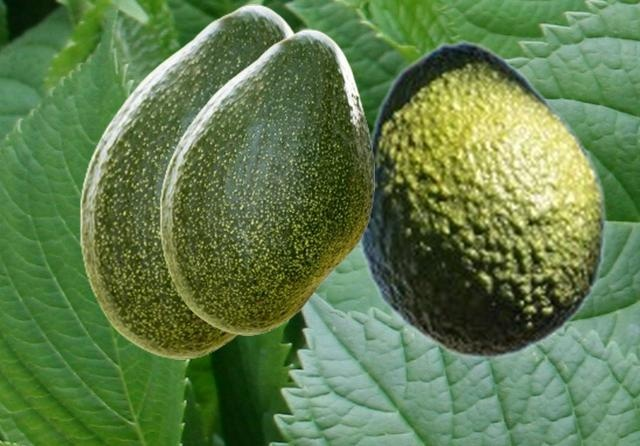avocado: (355, 40, 606, 359), (79, 4, 295, 358), (159, 29, 373, 334)
